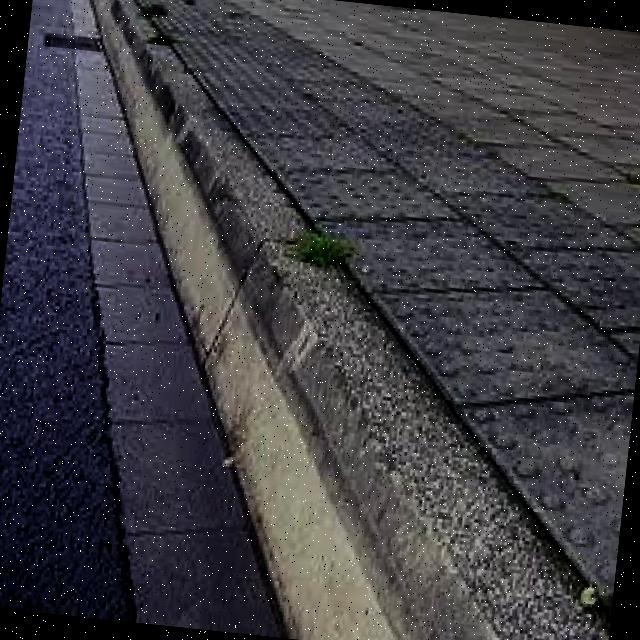curb: (198, 366, 633, 640), (131, 122, 412, 413), (70, 1, 188, 104)
